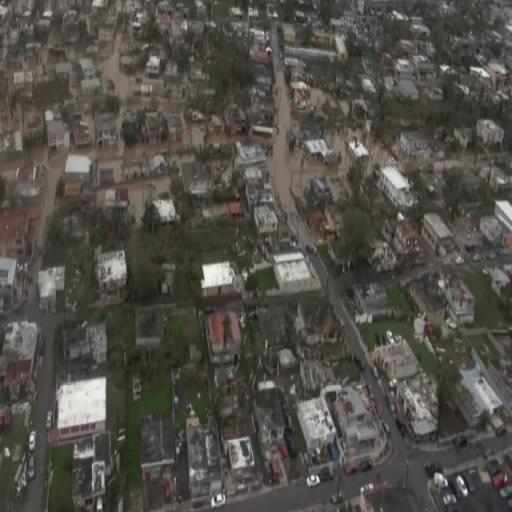house: (56, 376, 110, 437), (0, 323, 44, 395), (72, 435, 112, 500), (139, 413, 177, 479), (436, 264, 476, 326), (298, 398, 337, 454), (206, 310, 242, 364), (375, 339, 420, 382), (254, 388, 286, 440), (222, 424, 256, 470), (378, 167, 414, 207), (420, 213, 454, 255), (274, 254, 312, 291), (1, 257, 25, 315), (480, 201, 512, 244), (97, 250, 128, 294), (38, 266, 65, 312), (200, 262, 236, 295), (0, 215, 28, 257), (134, 310, 164, 344), (181, 161, 212, 193), (476, 116, 505, 146), (14, 162, 44, 190), (121, 150, 150, 178), (401, 131, 428, 158), (46, 120, 70, 150), (94, 114, 116, 146), (303, 138, 333, 161), (254, 204, 276, 234), (145, 114, 164, 144), (347, 142, 371, 164), (416, 56, 436, 80), (358, 0, 388, 16), (226, 109, 246, 130), (312, 30, 334, 46), (166, 82, 184, 100), (98, 22, 114, 42), (80, 58, 96, 76), (147, 56, 160, 76), (54, 63, 70, 79), (283, 24, 296, 43)
